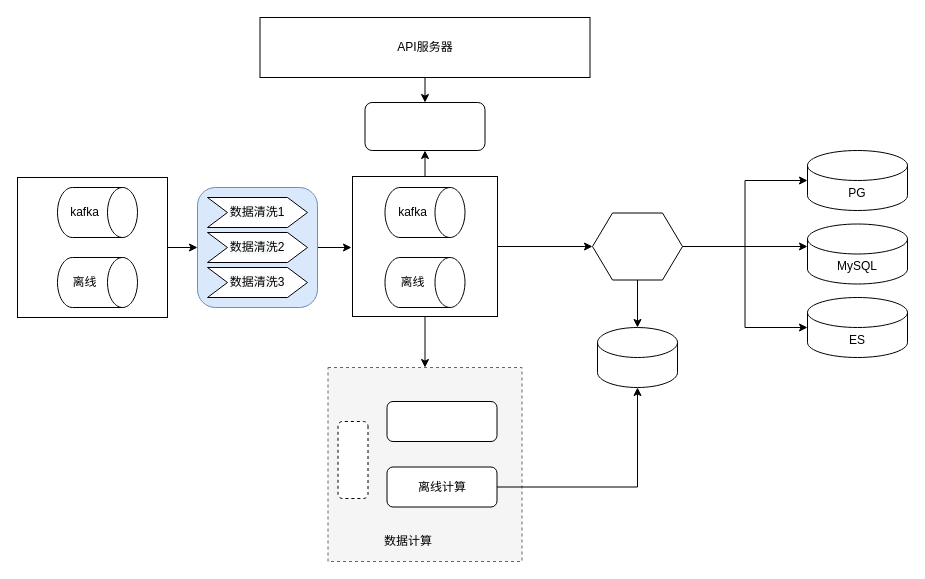
Some shapes in this 925 by 579 pixel diagram are drawn without their labels. The centre of each missing label's shape, as x and y in pixels:
HDFS: pixel 637 357
实时计算: pixel 441 421
数据分发: pixel 637 246
监控告警服务: pixel 424 126
调 度 系 统: pixel 352 459
